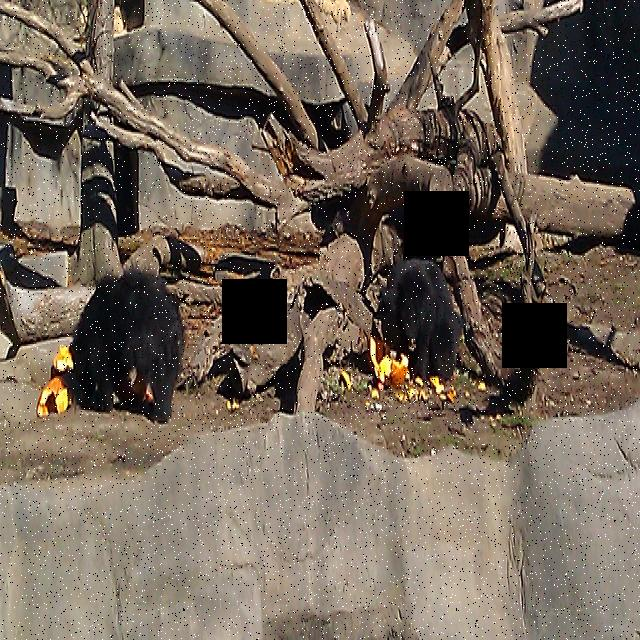Bear: (68, 260, 191, 425), (370, 256, 468, 388)
